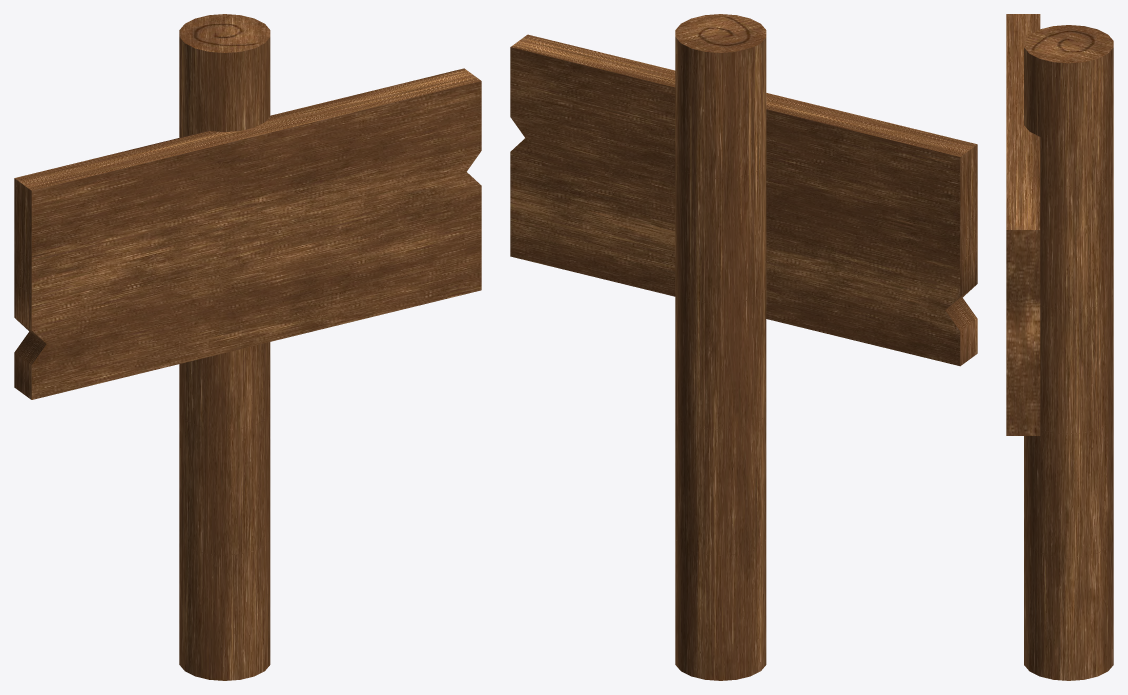
Rendered from wooden_sign.glb.
3 renders of one model, left to right at view 1: azimuth 30°, elevation 25°; view 2: azimuth 150°, elevation 25°; view 3: azimuth 270°, elevation 25°, orthographic.
Visible parts, largest first — view 1: defaultMaterial; view 2: defaultMaterial; view 3: defaultMaterial.
Part boxes in pixels (<box>): defaultMaterial: <box>14,14,481,680</box>; defaultMaterial: <box>510,14,977,680</box>; defaultMaterial: <box>1006,14,1113,680</box>.
Size of the model in its own units: 1.07 by 1.43 by 0.2247.
1 material, 1 textured.
